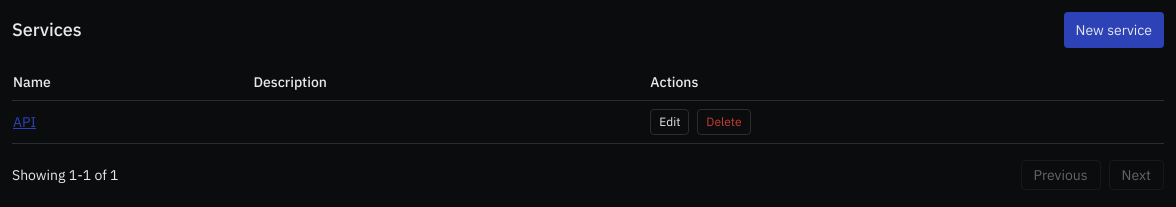
Scenario: ServicesListPage › shows a 404 error and refetches the list when deleting an already-gone service
The width and height of the screenshot is (1176, 207).
expect the link "API" is shown: met, box [13,113,36,131]
Click the button "Delete" at coordinates (724, 122), box [697,109,751,135]
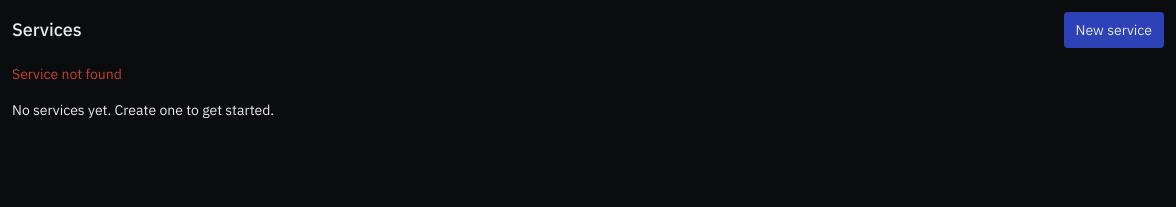
expect the text "Service not found" is shown: met, box [12,65,122,83]
expect the text "No services yet. Create one to get started." is shown: met, box [12,101,274,119]
